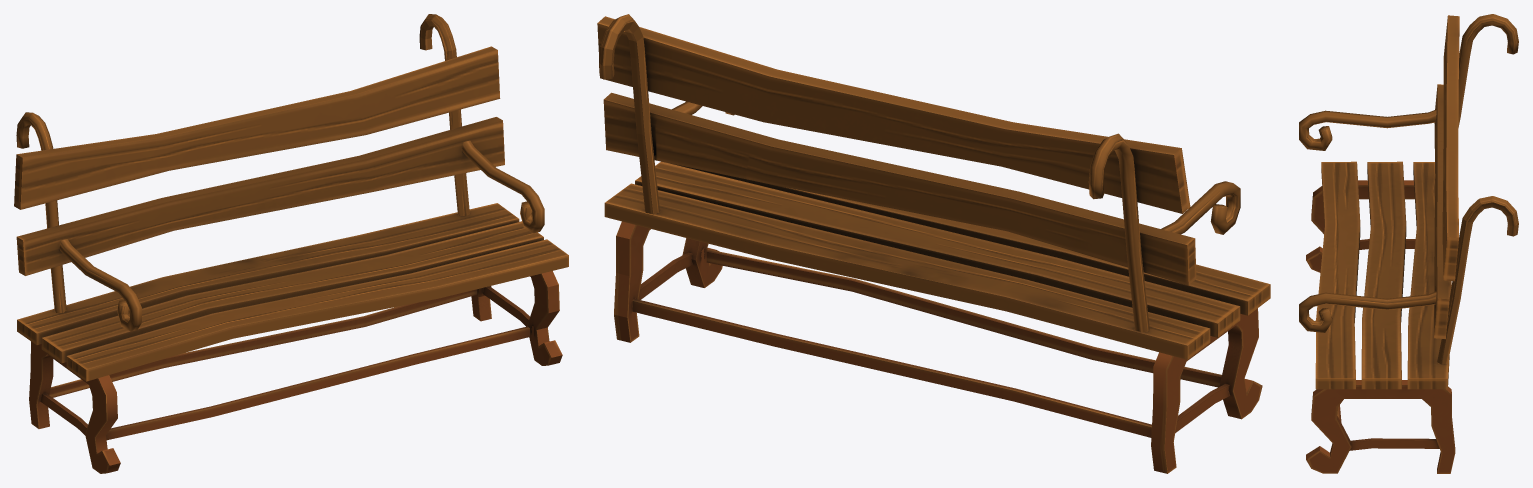
File: Bench.FBX
The picture shows the model from 3 angles, left to right: view 1: azimuth 30°, elevation 25°; view 2: azimuth 150°, elevation 25°; view 3: azimuth 270°, elevation 25°; orthographic projection. The views are drawn at different scales.
Parts seen in each view (by area): view 1: Bench; view 2: Bench; view 3: Bench.
Boxes of the visible parts, bbox=[...] form: Bench: bbox=[14, 14, 568, 473]; Bench: bbox=[597, 14, 1270, 473]; Bench: bbox=[1299, 14, 1518, 473].
Size of the model in its own units: 78.47 by 44.99 by 33.64.
